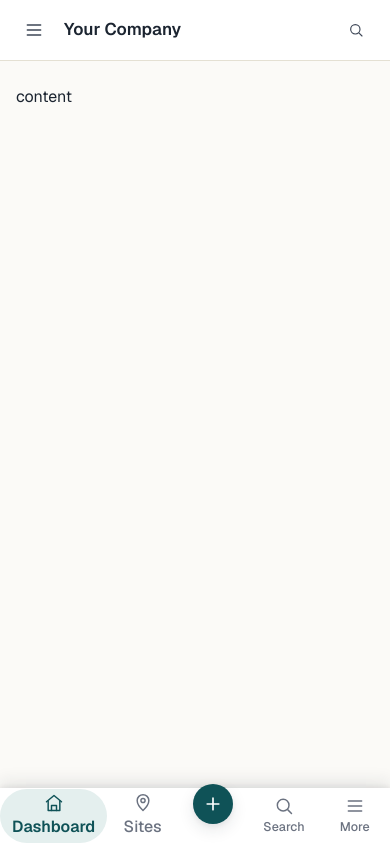
Test case: AppShell › exposes an accessible mobile nav toggle for OWNER_ADMIN that opens the drawer
Click the button named "Open navigation menu": (34, 30) [16,12,52,48]
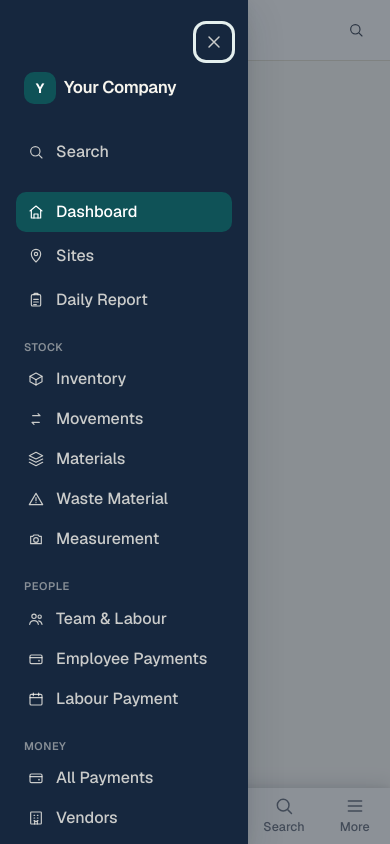
Result: the 1st button named "Close navigation menu" is shown
